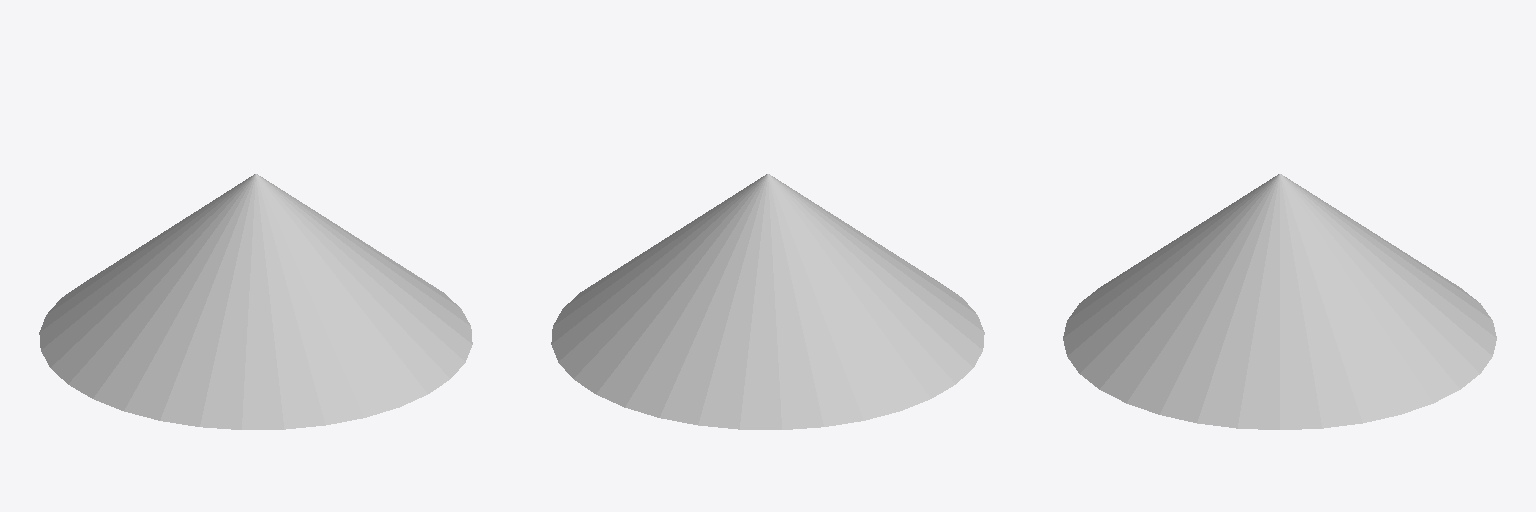
The model's file is Light.obj.
3 views of the same model, side by side, from view 1: azimuth 30°, elevation 25°; view 2: azimuth 150°, elevation 25°; view 3: azimuth 270°, elevation 25° (orthographic).
Parts seen in each view (by area): view 1: Cone; view 2: Cone; view 3: Cone.
Boxes of the visible parts, <box> form: Cone: <box>39,174,472,429</box>; Cone: <box>551,174,984,429</box>; Cone: <box>1063,174,1496,429</box>.
Bounding box in the file's own units: 2 × 0.84 × 2.